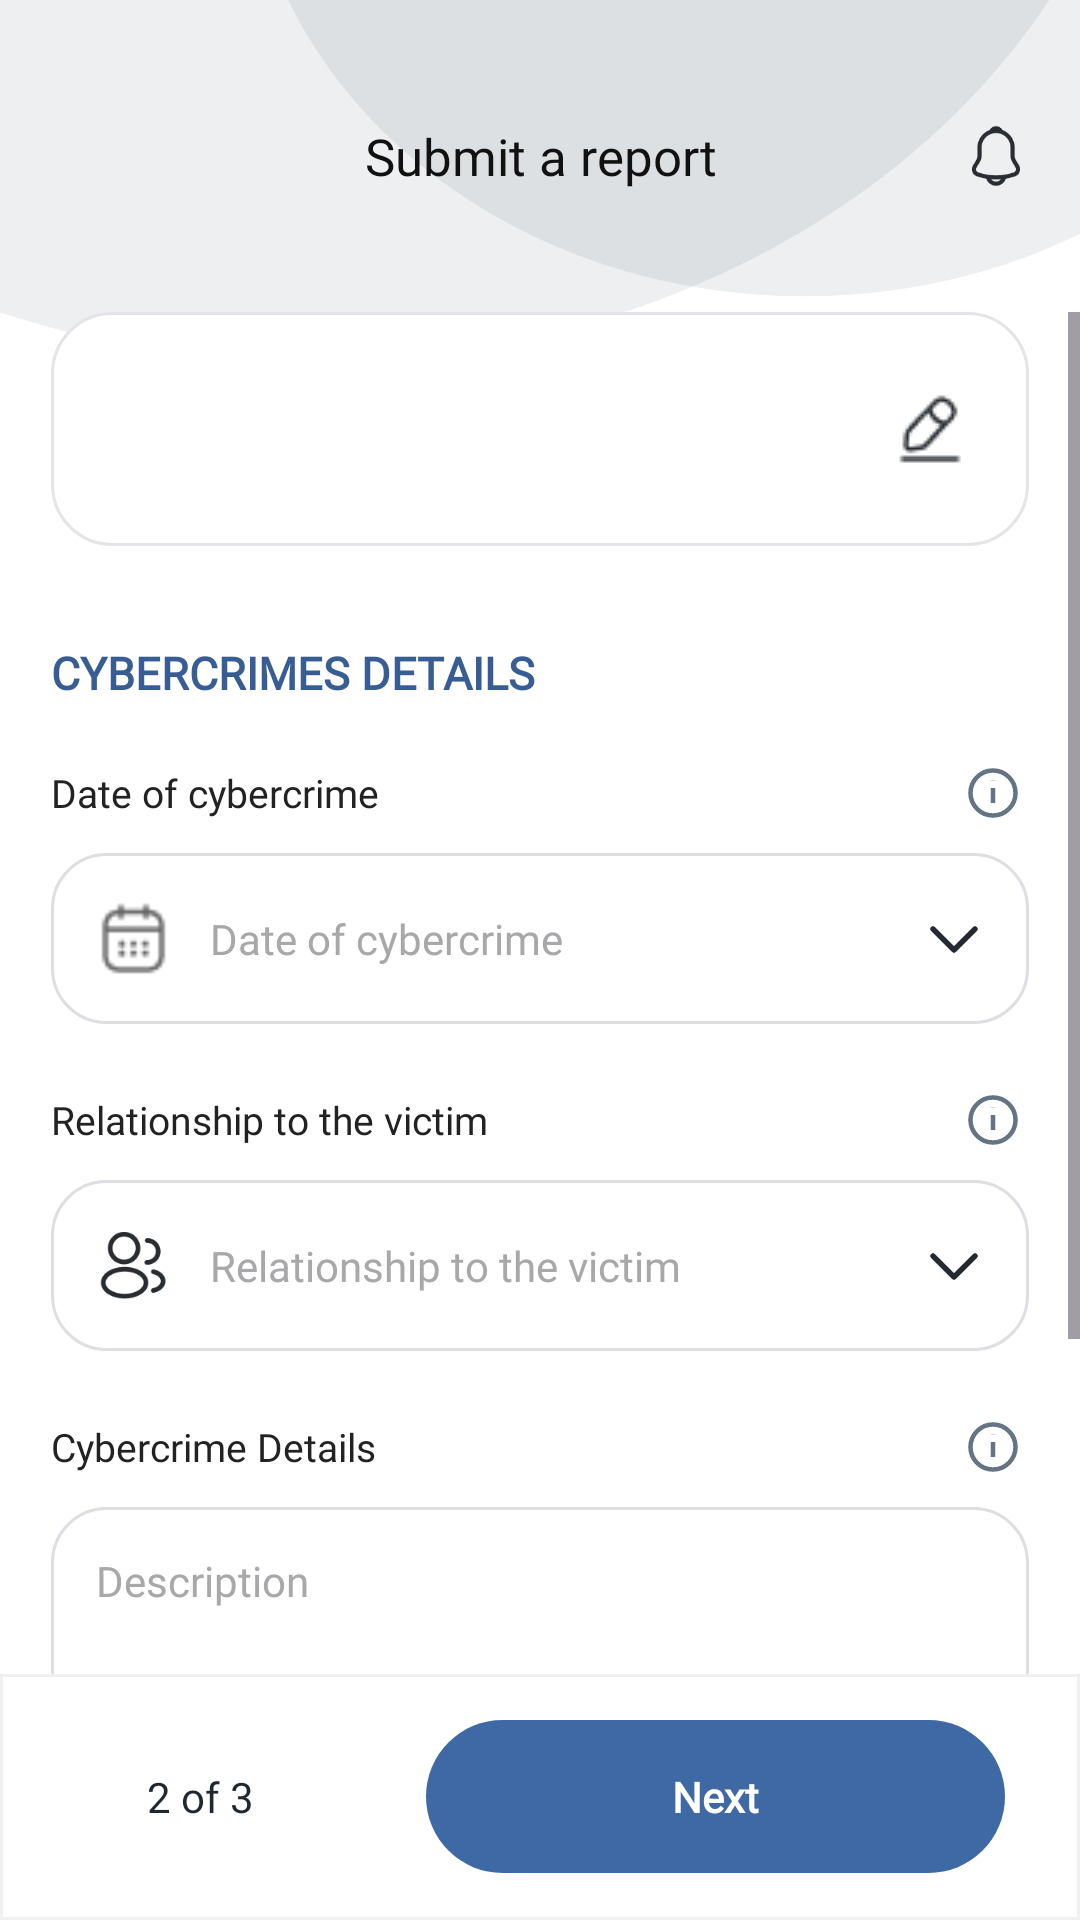

Icons on this 1080w x 1920h Android screen, each with the point to tap as [x,y]:
Calendar: [133,939]
Date information: [993,793]
Details information: [993,1447]
Edit cybercrime type: [930,429]
Notifications: [996,156]
Relationship information: [993,1120]
Select date: [954,939]
Select relationship: [954,1266]
